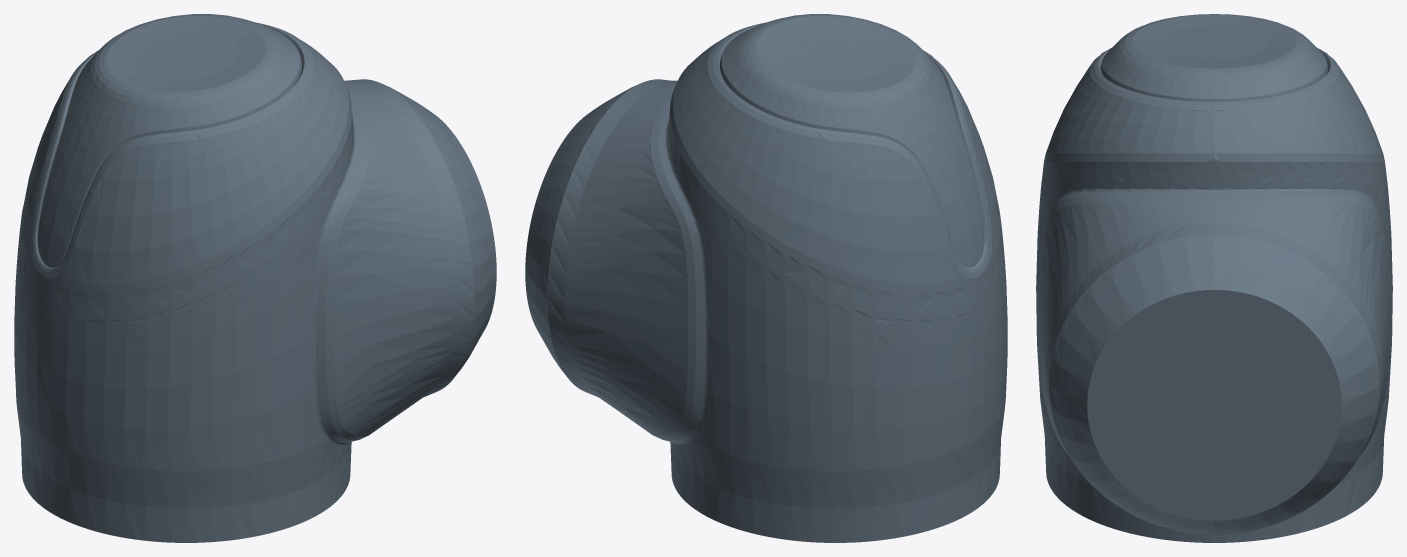
The picture shows the model from 3 angles, left to right: view 1: azimuth 30°, elevation 25°; view 2: azimuth 150°, elevation 25°; view 3: azimuth 270°, elevation 25°; orthographic projection. The views are drawn at different scales.
Parts seen in each view (by area): view 1: MF1013_2_0; view 2: MF1013_2_0; view 3: MF1013_2_0.
Boxes of the visible parts, x1,y1,x2,y2 form: MF1013_2_0: (14,14,496,542); MF1013_2_0: (525,14,1007,542); MF1013_2_0: (1036,14,1392,542).
Size of the model in its own units: 214 by 162 by 220.
